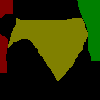abbigliamento: (77, 0, 100, 61), (0, 0, 13, 73)
mutande: (7, 17, 88, 81)
